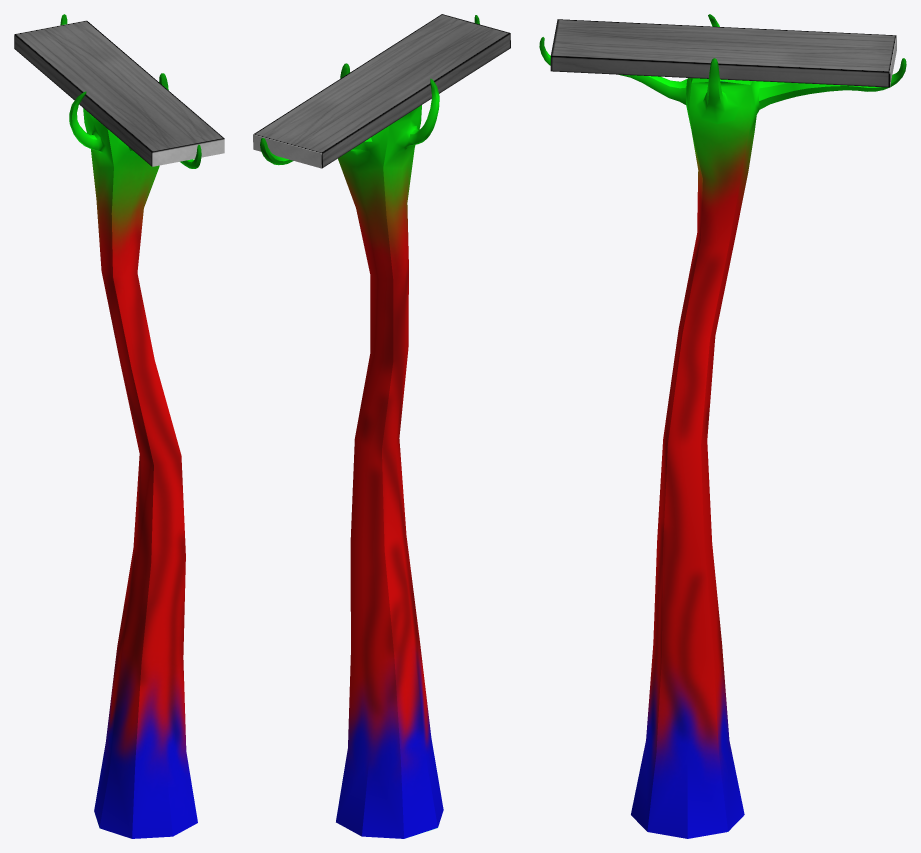
The model's file is Mushroom_Stairs02.fbx.
3 views of the same model, side by side, from view 1: azimuth 30°, elevation 25°; view 2: azimuth 150°, elevation 25°; view 3: azimuth 270°, elevation 25° (orthographic). The views are drawn at different scales.
Visible parts, largest first — view 1: Stair02; view 2: Stair02; view 3: Stair02.
Boxes of the visible parts, box(x1,y1,x2,y2) form: Stair02: box(14, 14, 224, 838); Stair02: box(253, 14, 510, 838); Stair02: box(539, 14, 906, 838).
Bounding box in the file's own units: 77.68 × 502 × 216.
Materials: 2 (2 with a texture image).
